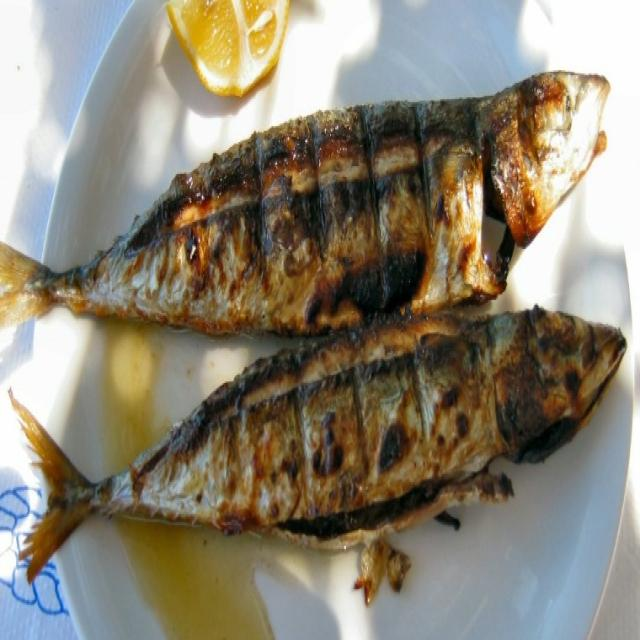FISH FRY: (0, 73, 626, 602)
